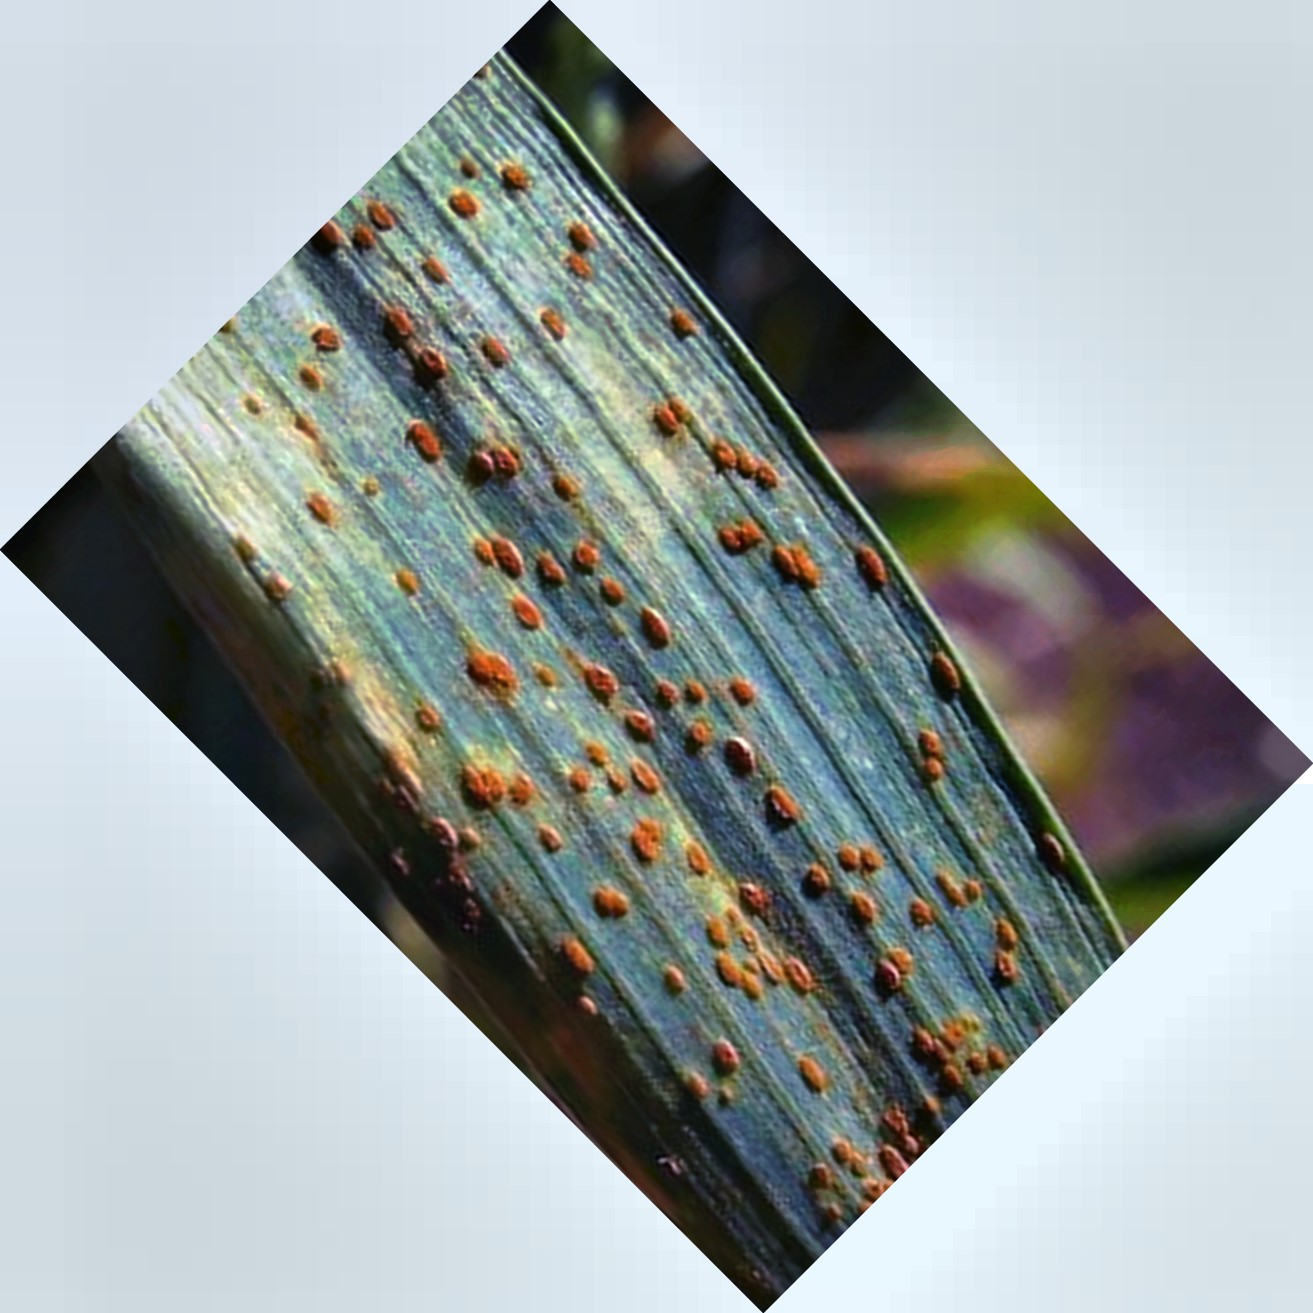Leaf Rust: (274, 283, 1054, 1074)
